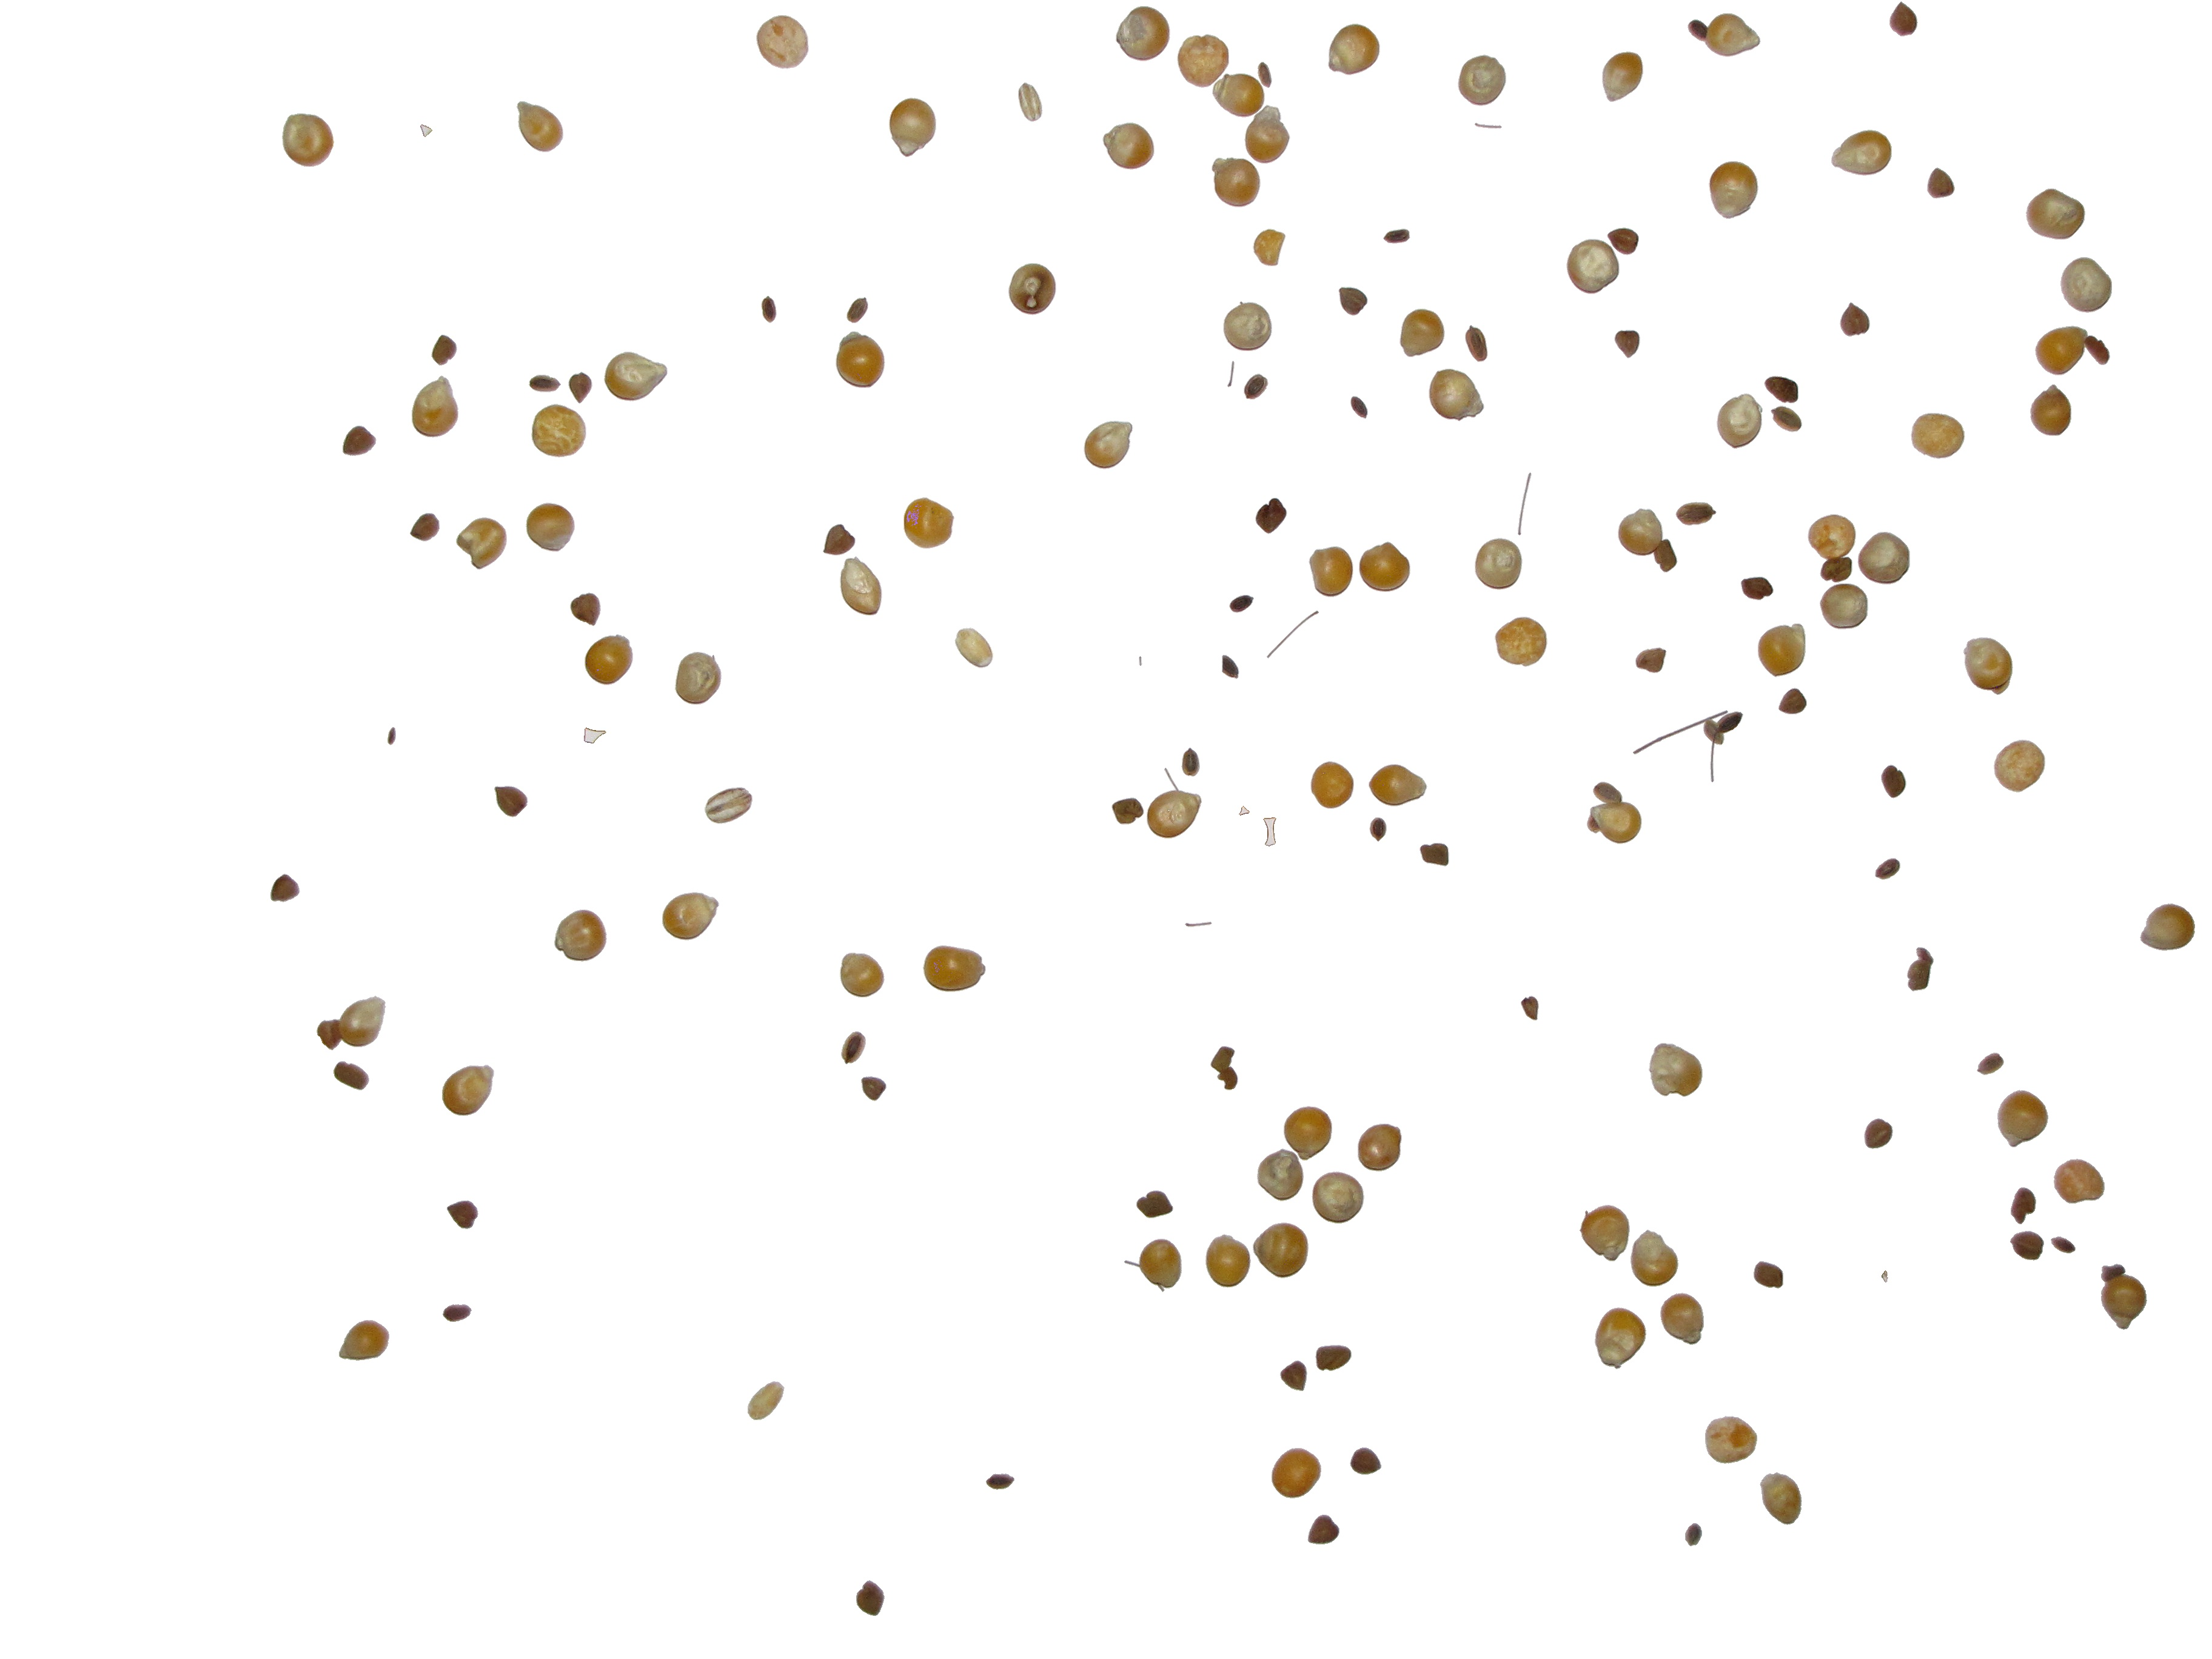buckwheat: (1907, 948, 1933, 992), (1256, 498, 1287, 533), (495, 786, 528, 817), (571, 592, 601, 626), (1890, 2, 1918, 37), (334, 1061, 369, 1089), (857, 1581, 885, 1615), (1137, 1190, 1172, 1218), (824, 525, 855, 554), (1841, 303, 1869, 336), (343, 427, 376, 455), (2010, 1232, 2043, 1260), (1676, 502, 1716, 525), (1315, 1345, 1352, 1370), (1308, 1516, 1339, 1544), (1111, 798, 1144, 824), (1764, 376, 1797, 403), (2012, 1188, 2036, 1223), (448, 1201, 477, 1229), (1865, 1119, 1893, 1148), (1928, 167, 1954, 199), (1350, 1448, 1381, 1474), (1608, 228, 1639, 254), (1881, 765, 1905, 798), (1465, 326, 1487, 361), (1339, 288, 1367, 315), (1280, 1361, 1306, 1391), (1754, 1262, 1784, 1288), (841, 1032, 866, 1063), (1635, 648, 1667, 673), (1740, 577, 1773, 599), (1778, 688, 1806, 714), (272, 875, 300, 901), (411, 514, 439, 540), (432, 335, 456, 364), (570, 373, 592, 403), (1420, 843, 1449, 866), (1615, 331, 1639, 357), (1211, 1047, 1235, 1073), (1244, 375, 1268, 399), (862, 1077, 887, 1101), (1977, 1053, 2003, 1075), (529, 375, 561, 392), (1876, 859, 1900, 880), (846, 298, 867, 322), (1183, 748, 1200, 775), (442, 1305, 472, 1321), (986, 1474, 1014, 1490), (1369, 817, 1386, 842), (761, 296, 777, 322), (1521, 997, 1538, 1019), (1230, 596, 1254, 612), (1383, 230, 1409, 244), (2052, 1237, 2074, 1253), (1686, 1523, 1702, 1546), (1223, 655, 1238, 678), (1352, 397, 1367, 418)
dill: (1635, 711, 1707, 755), (1268, 612, 1318, 659), (1519, 471, 1531, 533), (585, 728, 606, 742), (1264, 817, 1275, 845), (1228, 361, 1233, 387), (1186, 922, 1212, 927), (421, 125, 432, 136), (1475, 124, 1501, 127), (1240, 807, 1249, 816), (1883, 1270, 1888, 1283)
mais: (604, 352, 667, 401), (1595, 1309, 1646, 1368), (1116, 7, 1170, 61), (1254, 1223, 1308, 1277), (1125, 1239, 1181, 1291), (2026, 190, 2085, 239), (923, 946, 986, 992), (1568, 239, 1620, 293), (531, 404, 585, 457), (1998, 1091, 2048, 1147), (413, 376, 458, 437), (756, 16, 808, 68), (1649, 1044, 1702, 1096), (1430, 369, 1484, 420), (2060, 258, 2111, 312), (836, 331, 885, 387), (1709, 162, 1757, 218), (1832, 131, 1892, 176), (890, 98, 935, 157), (456, 518, 507, 570), (556, 910, 606, 962), (1312, 1173, 1364, 1223), (1177, 35, 1228, 87), (282, 113, 333, 166), (2036, 326, 2088, 376), (1284, 1107, 1332, 1161), (1580, 1206, 1629, 1260), (1630, 1230, 1677, 1286), (664, 892, 719, 939), (1965, 638, 2012, 694), (442, 1065, 493, 1115), (904, 498, 954, 549), (1994, 741, 2045, 791), (1329, 24, 1379, 75), (1858, 533, 1909, 584), (1148, 791, 1202, 838), (1245, 106, 1289, 164), (1496, 617, 1547, 666), (1008, 263, 1055, 315), (1705, 1417, 1757, 1464), (1808, 514, 1860, 561), (1205, 1234, 1251, 1288), (1717, 394, 1763, 448), (2141, 904, 2195, 950), (1911, 413, 1965, 458), (1587, 800, 1642, 843), (1271, 1448, 1320, 1497), (1360, 542, 1409, 591), (585, 634, 632, 685), (1458, 56, 1505, 106), (1212, 157, 1259, 207), (1475, 538, 1522, 589), (1258, 1148, 1303, 1201), (1103, 124, 1155, 169), (676, 652, 721, 704), (1759, 624, 1804, 676), (1369, 765, 1426, 805), (2102, 1272, 2142, 1330), (1083, 422, 1132, 469), (526, 504, 575, 551), (1224, 301, 1271, 350), (517, 101, 563, 152), (1212, 73, 1264, 117), (341, 997, 385, 1049), (1707, 14, 1761, 56), (2054, 1159, 2104, 1202), (1618, 509, 1662, 559), (1820, 584, 1867, 629), (1400, 308, 1444, 357), (1310, 547, 1353, 596), (1662, 1293, 1703, 1344), (1761, 1473, 1801, 1525), (1359, 1124, 1402, 1171), (2031, 385, 2071, 436), (1312, 762, 1353, 809), (1602, 52, 1642, 101), (841, 953, 885, 997), (340, 1321, 388, 1359), (1254, 230, 1285, 265), (1139, 657, 1143, 666)
other: (841, 554, 881, 613), (705, 788, 752, 824), (954, 627, 993, 667), (749, 1382, 784, 1420), (1019, 84, 1042, 122), (1771, 406, 1801, 432), (1258, 63, 1271, 87), (388, 728, 395, 744)
